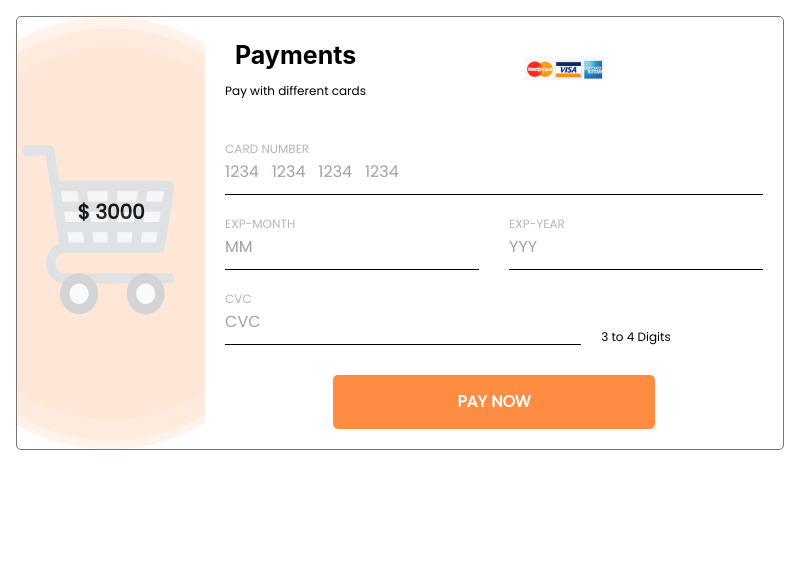
Test: tesing the component after loading › should test the form validation
Click the button "PAY NOW" at [494, 402], box 333,374 -> 655,428
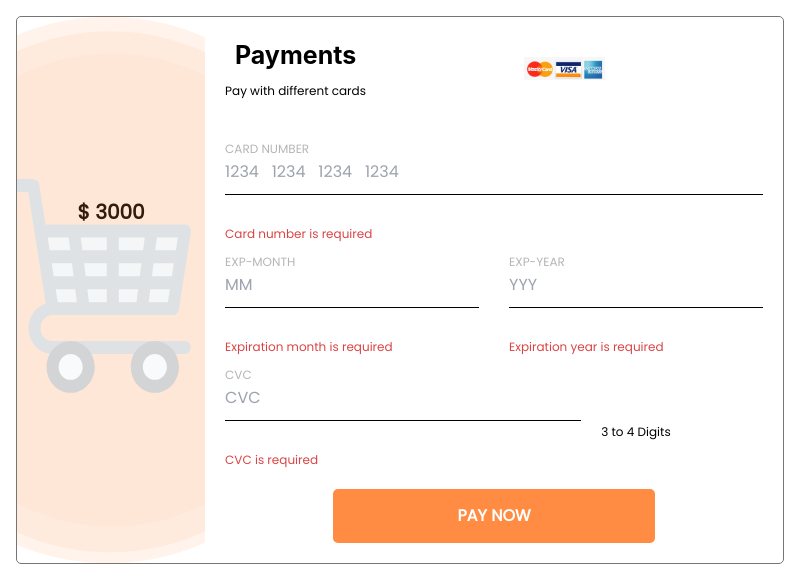
Result: the text "Card number is required" is shown at 225,224 -> 372,242
